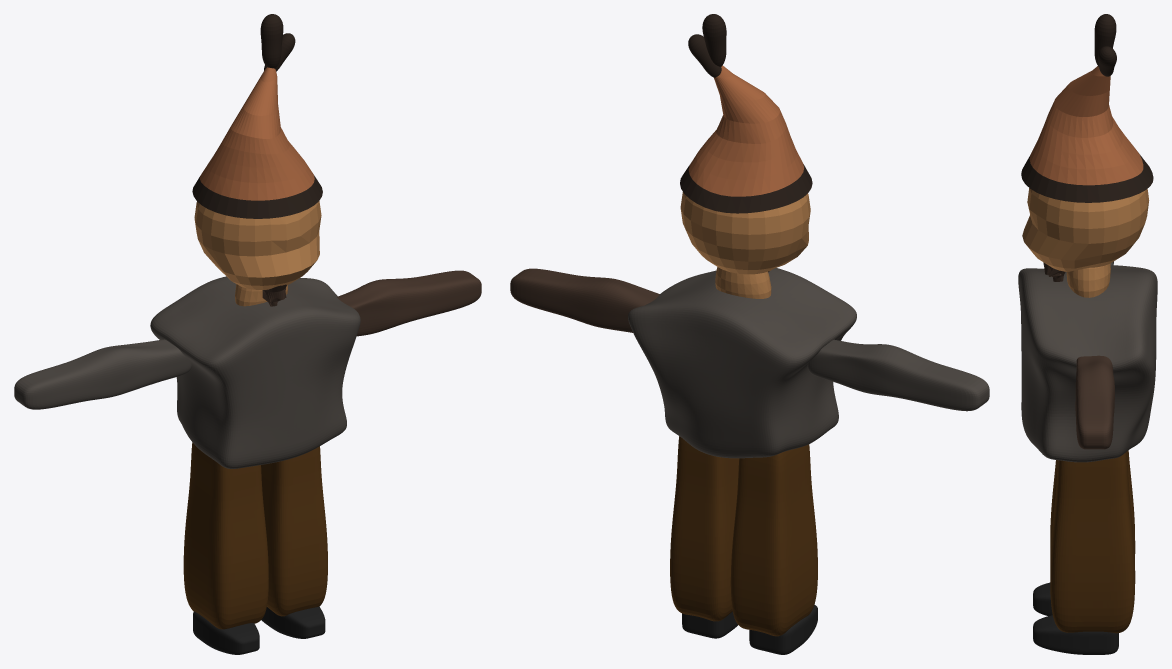
Rendered from военный.fbx.
3 views of the same model, side by side, from view 1: azimuth 30°, elevation 25°; view 2: azimuth 150°, elevation 25°; view 3: azimuth 270°, elevation 25° (orthographic). The views are drawn at different scales.
Visible parts, largest first — view 1: разбиник; view 2: разбиник; view 3: разбиник.
Boxes of the visible parts, x1=… form: разбиник: x1=14, y1=14, x2=481, y2=654; разбиник: x1=510, y1=14, x2=989, y2=654; разбиник: x1=1018, y1=14, x2=1157, y2=654.
Bounding box in the file's own units: 810 × 1024 × 206.
